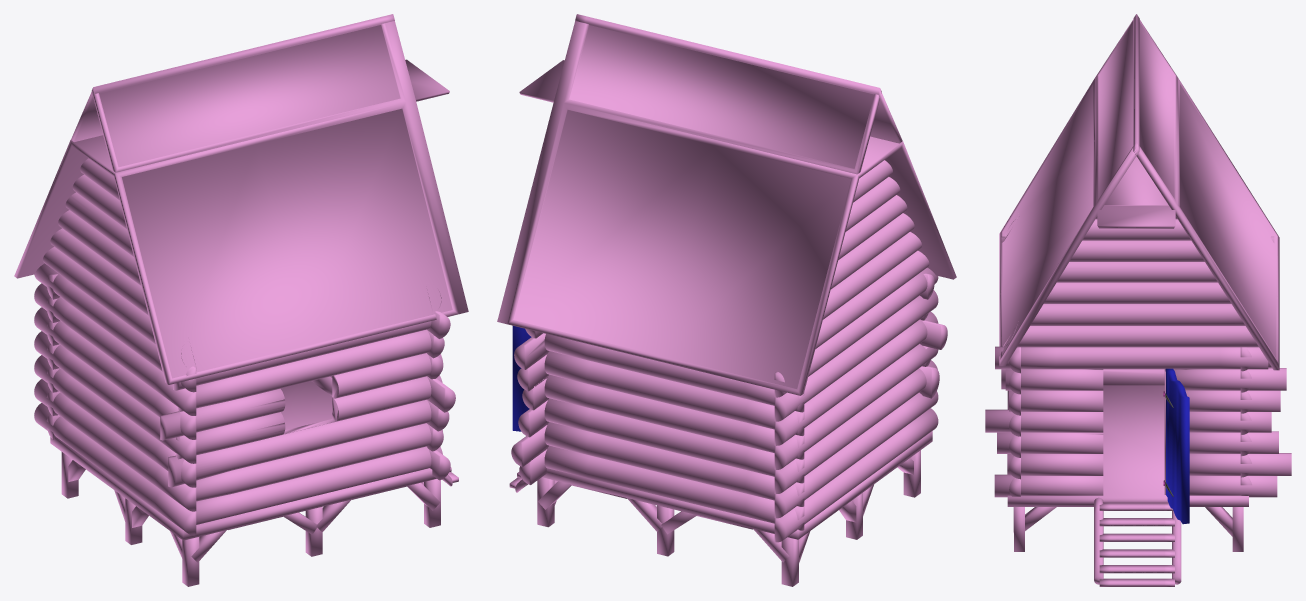
File: Wooden_hut.obj
The picture shows the model from 3 angles, left to right: view 1: azimuth 30°, elevation 25°; view 2: azimuth 150°, elevation 25°; view 3: azimuth 270°, elevation 25°; orthographic projection. The views are drawn at different scales.
Parts seen in each view (by area): view 1: Box025; view 2: Box025, Box034; view 3: Box025, Box034.
Part boxes in pixels (bbox=[...]): Box025: bbox=[14, 14, 468, 586]; Box025: bbox=[497, 14, 956, 586]; Box034: bbox=[512, 326, 531, 431]; Box025: bbox=[985, 14, 1291, 586]; Box034: bbox=[1165, 368, 1189, 524].
Bounding box in the file's own units: 355 × 458 × 301.
